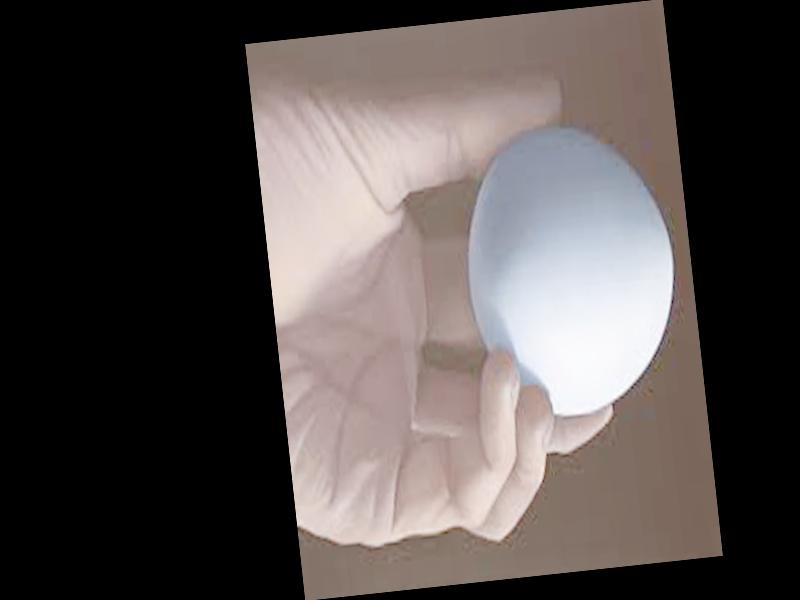Eggs: (456, 118, 690, 427)
